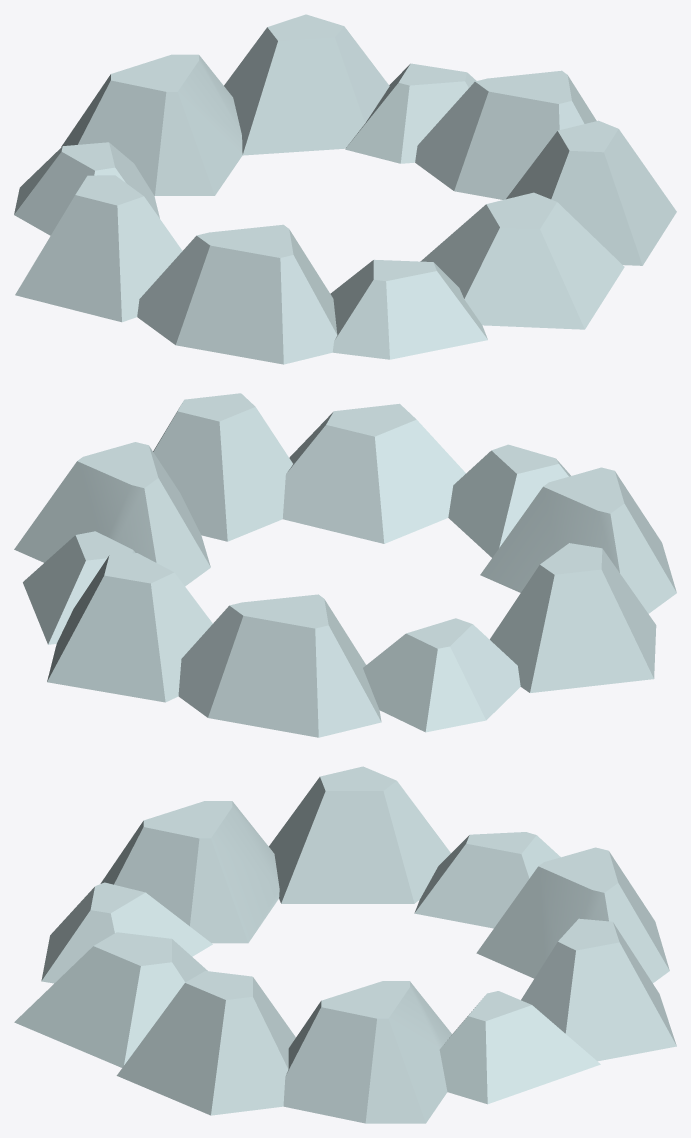
The model's file is campfireStones_rocks.glb.
3 views of the same model, one above another, from view 1: azimuth 30°, elevation 25°; view 2: azimuth 150°, elevation 25°; view 3: azimuth 270°, elevation 25° (orthographic). The views are drawn at different scales.
Parts seen in each view (by area): view 1: campfireStones_rocks; view 2: campfireStones_rocks; view 3: campfireStones_rocks.
Boxes of the visible parts, <box> form: campfireStones_rocks: <box>14,14,676,364</box>; campfireStones_rocks: <box>14,393,676,737</box>; campfireStones_rocks: <box>14,766,676,1123</box>.
Size of the model in its own units: 0.5408 by 0.0778 by 0.5155.
